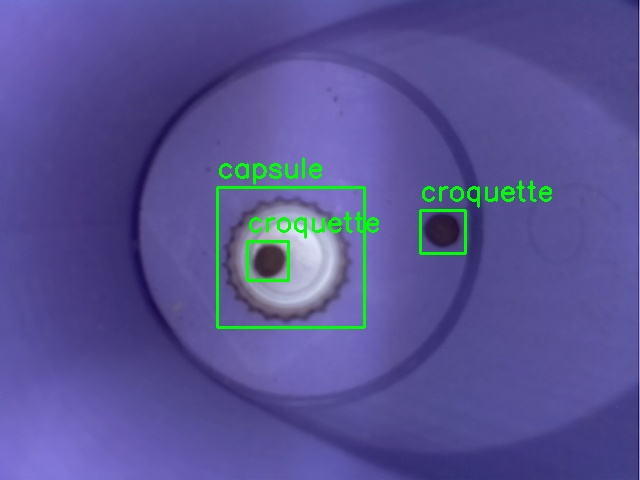capsule: (217, 187, 364, 327)
croquette: (420, 210, 465, 253), (247, 241, 288, 280)
